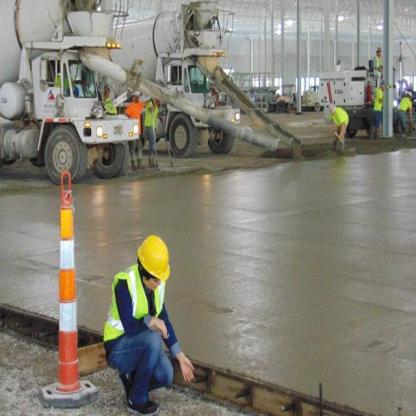bota: (126, 394, 161, 415)
capacete: (136, 234, 171, 291)
